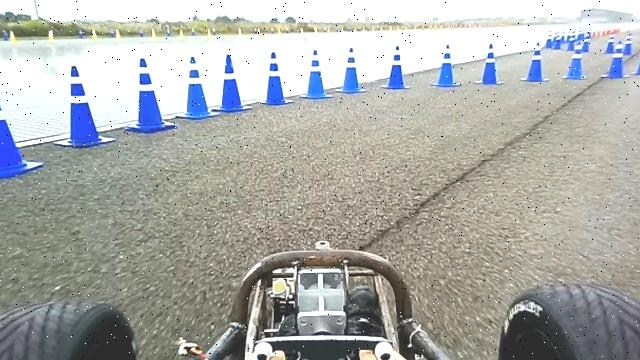blue cone: (52, 64, 116, 148), (0, 76, 43, 178), (124, 57, 177, 133), (174, 55, 220, 120), (211, 54, 252, 112), (258, 51, 293, 105), (300, 49, 334, 99), (335, 46, 367, 94), (430, 44, 461, 87), (382, 45, 411, 90), (474, 43, 504, 85), (520, 41, 549, 82), (600, 40, 631, 78), (562, 44, 590, 80)
